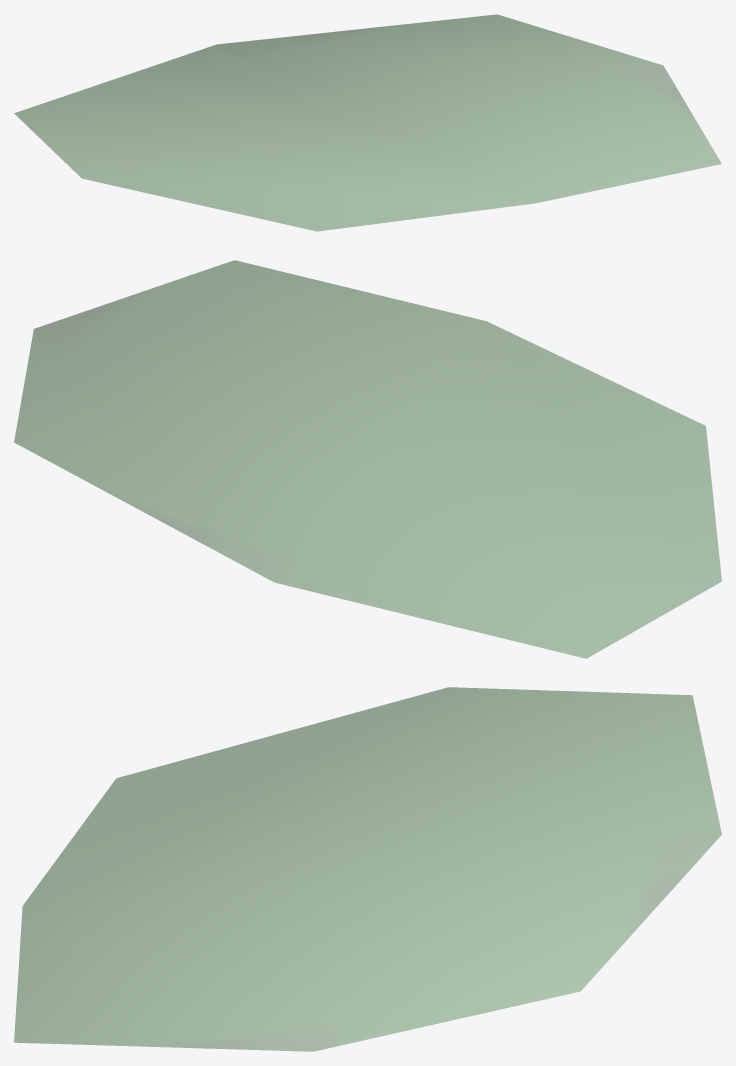
The model's file is TROLLHOLE02_HOLECAP11.fbx.
3 renders of one model, top to bottom at view 1: azimuth 30°, elevation 25°; view 2: azimuth 150°, elevation 25°; view 3: azimuth 270°, elevation 25°, orthographic. The views are drawn at different scales.
Visible parts, largest first — view 1: TROLLHOLE02_HOLECAP11; view 2: TROLLHOLE02_HOLECAP11; view 3: TROLLHOLE02_HOLECAP11.
Boxes of the visible parts, x1,y1,x2,y2 form: TROLLHOLE02_HOLECAP11: (14,14,721,231); TROLLHOLE02_HOLECAP11: (14,260,721,658); TROLLHOLE02_HOLECAP11: (14,687,721,1051).
Bounding box in the file's own units: 34605 × 1270 × 26678.
1 material, 1 textured.
